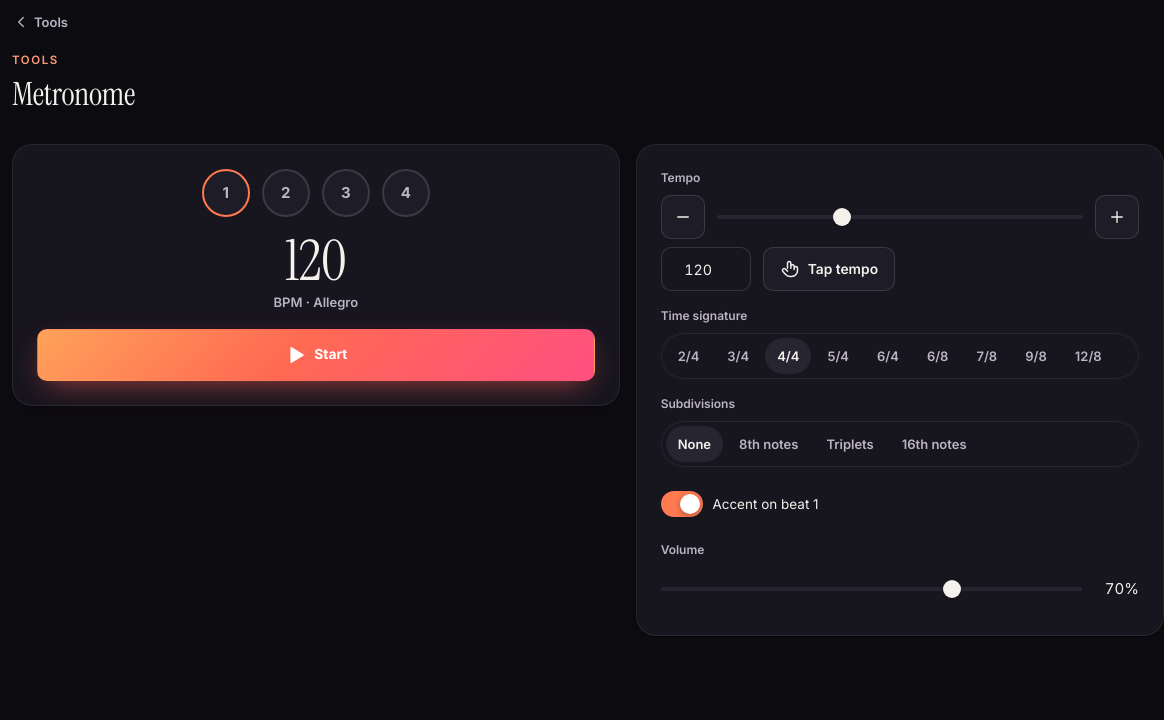
Test: StandaloneMetronomeView › toggles start and stop
What coordinates should you click on to do the following:
click the button with test id "metronome-toggle"
I would click on:
 (316, 355)
Its box is [37,329,595,381].
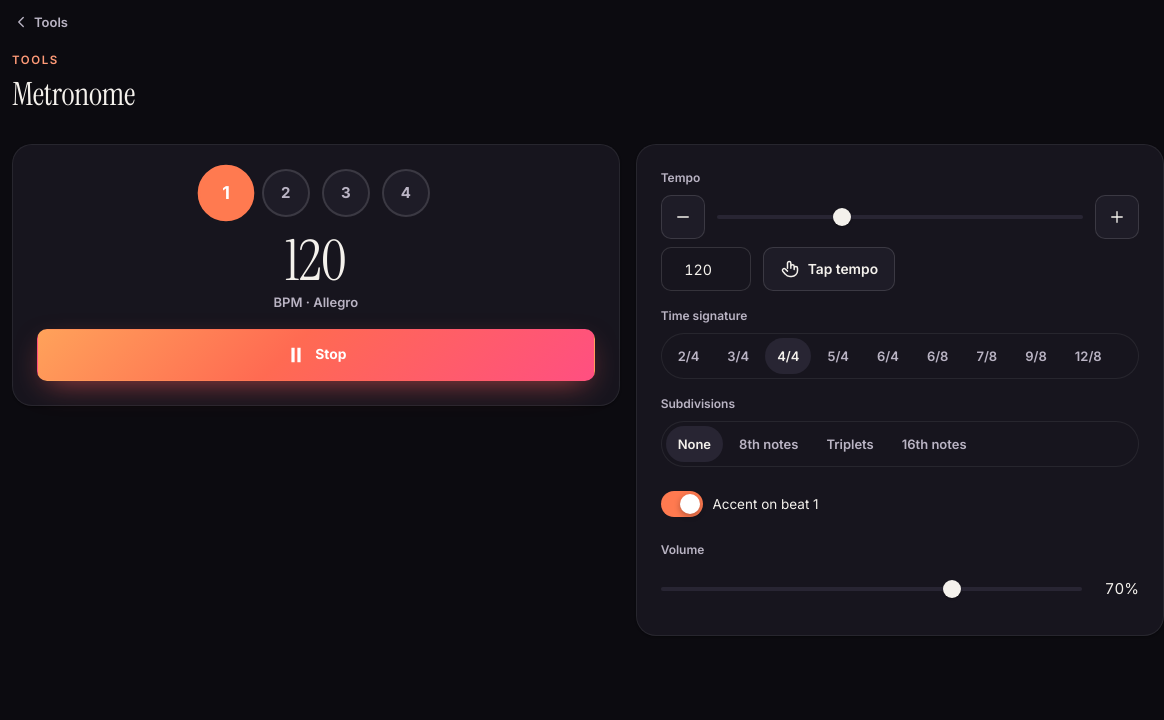
Result: the button with test id "metronome-toggle" reads "Stop"
What coordinates should you click on to do the following:
click the button with test id "metronome-toggle"
I would click on:
 (316, 355)
Its box is [37,329,595,381].
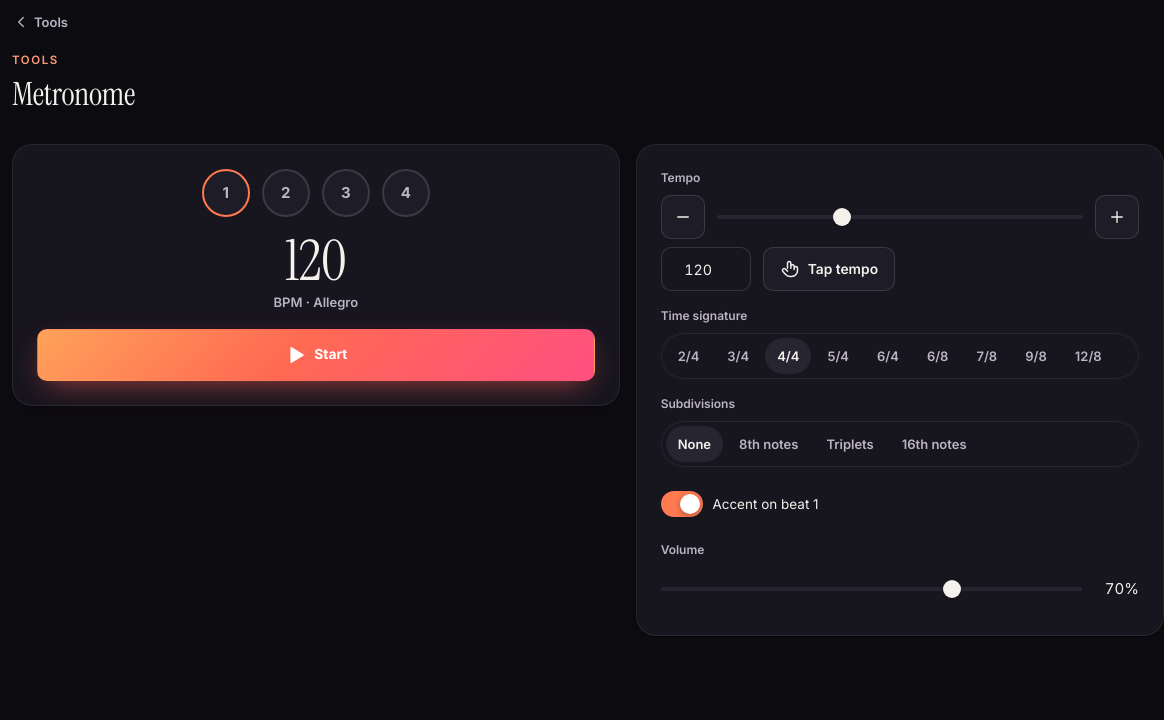
Result: the button with test id "metronome-toggle" reads "Start" at [37,329,595,381]
